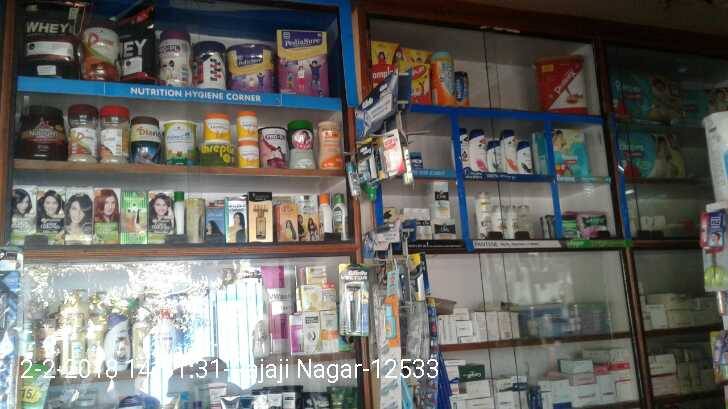beauty: (335, 268, 366, 341), (430, 181, 455, 219), (475, 186, 491, 244), (501, 132, 517, 176), (429, 219, 458, 242), (470, 131, 485, 172), (487, 136, 501, 175), (492, 198, 504, 241), (517, 203, 532, 235), (504, 205, 517, 238), (519, 137, 530, 168)
pharmacy: (616, 125, 682, 179), (552, 131, 588, 174), (579, 211, 610, 244), (410, 152, 426, 170)
